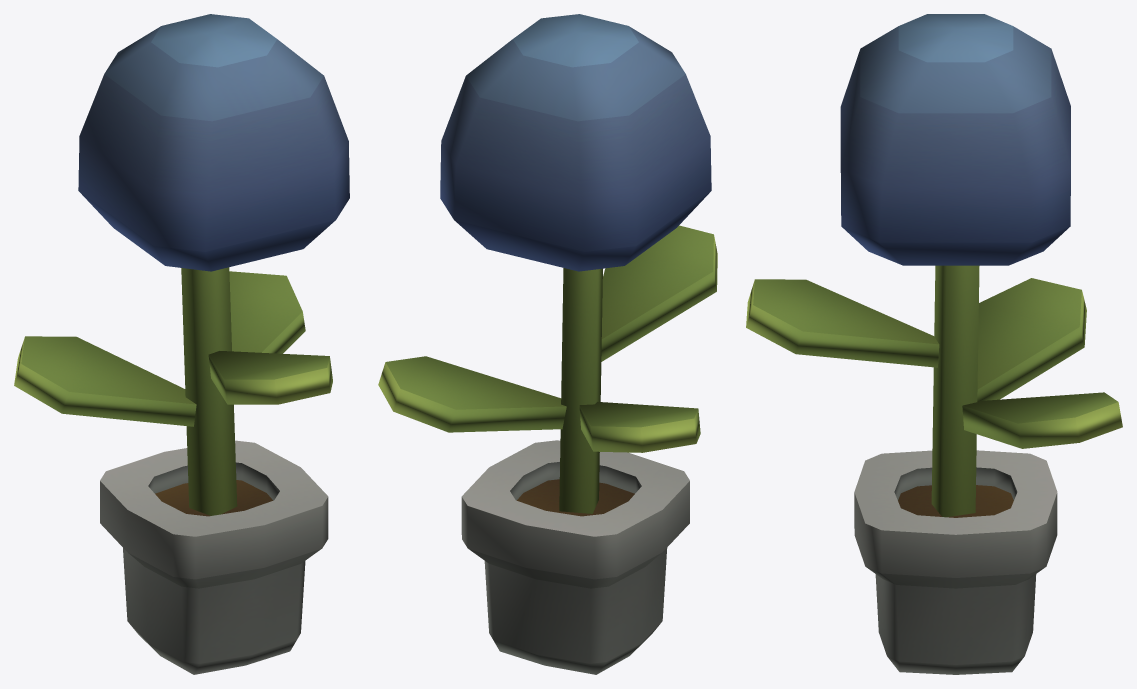
Rendered from flower_2_blue_pot.fbx.
3 renders of one model, left to right at view 1: azimuth 30°, elevation 25°; view 2: azimuth 150°, elevation 25°; view 3: azimuth 270°, elevation 25°, orthographic.
Parts seen in each view (by area): view 1: flower_2_blue_pot; view 2: flower_2_blue_pot; view 3: flower_2_blue_pot.
Part boxes in pixels (box(x1,y1,x2,y2)): flower_2_blue_pot: box(14, 14, 349, 674); flower_2_blue_pot: box(378, 14, 717, 674); flower_2_blue_pot: box(746, 14, 1122, 674).
Size of the model in its own units: 50.35 by 98.93 by 54.64.
